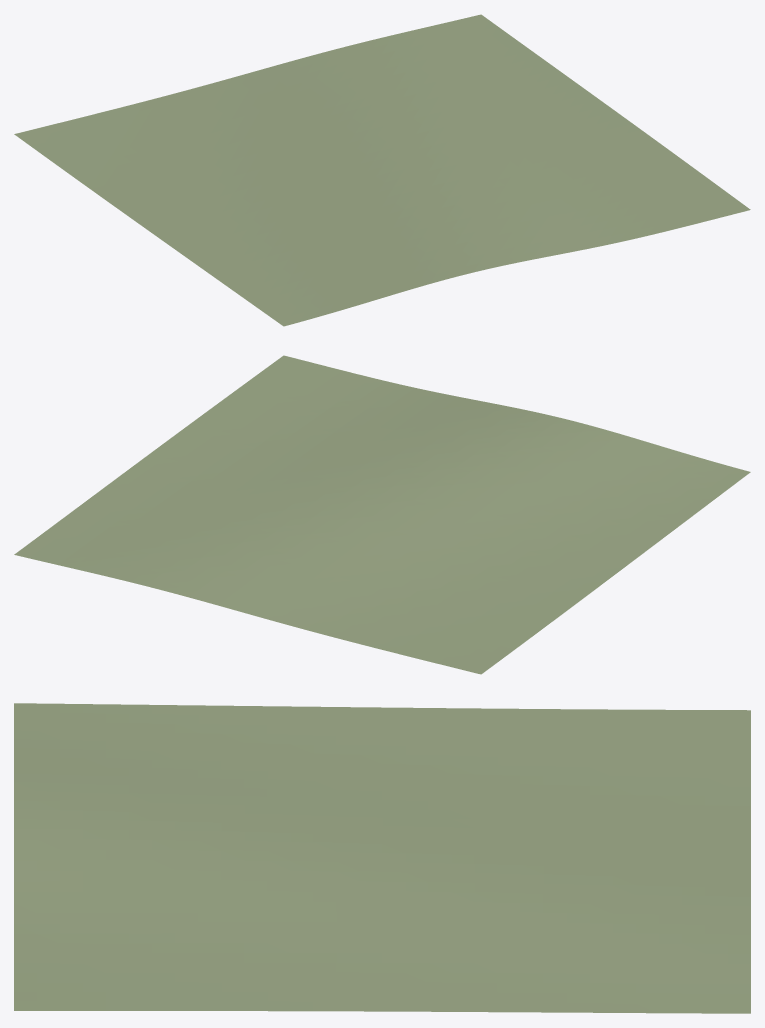
The model's file is desert-1-3.glb.
3 renders of one model, top to bottom at view 1: azimuth 30°, elevation 25°; view 2: azimuth 150°, elevation 25°; view 3: azimuth 270°, elevation 25°, orthographic. The views are drawn at different scales.
Parts seen in each view (by area): view 1: desert-1-3; view 2: desert-1-3; view 3: desert-1-3.
Part boxes in pixels (x1,y1,x2,y2): desert-1-3: [14, 14, 750, 326]; desert-1-3: [14, 355, 750, 674]; desert-1-3: [14, 703, 750, 1013].
Bounding box in the file's own units: 512 × 13.44 × 512.
